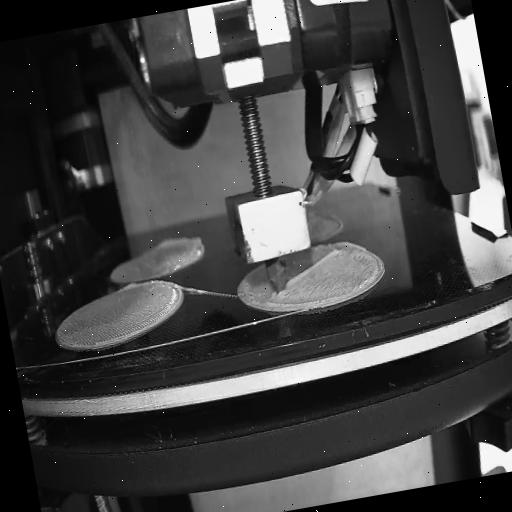over_extrusion: (281, 246, 346, 288), (155, 231, 208, 259), (116, 280, 140, 294), (270, 290, 286, 302)
